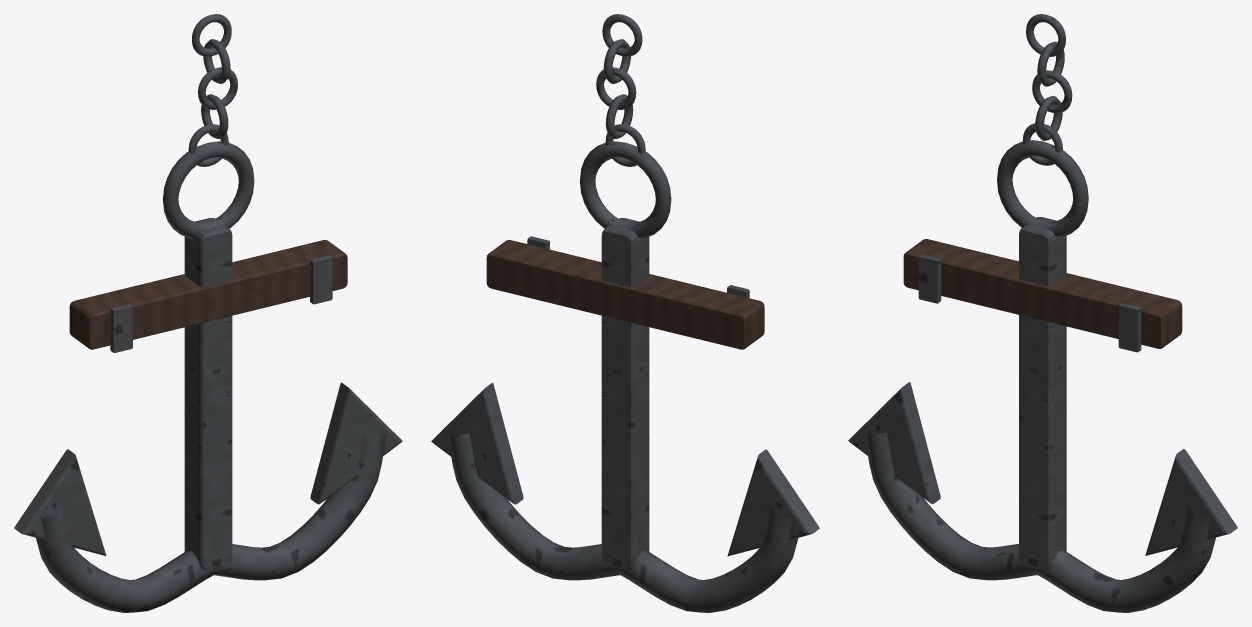
3 renders of one model, left to right at view 1: azimuth 30°, elevation 25°; view 2: azimuth 150°, elevation 25°; view 3: azimuth 330°, elevation 25°, orthographic.
Parts seen in each view (by area): view 1: forged iron, heartwood; view 2: forged iron, heartwood; view 3: forged iron, heartwood.
Boxes of the visible parts, left/top/right/bottom form: forged iron: left=14, top=14, right=402, bottom=612; heartwood: left=69, top=240, right=347, bottom=349; forged iron: left=431, top=14, right=819, bottom=612; heartwood: left=486, top=240, right=764, bottom=349; forged iron: left=848, top=14, right=1237, bottom=612; heartwood: left=903, top=239, right=1182, bottom=348.
Size of the model in its own units: 0.8021 by 1.17 by 0.095.
2 materials, 2 textured.
